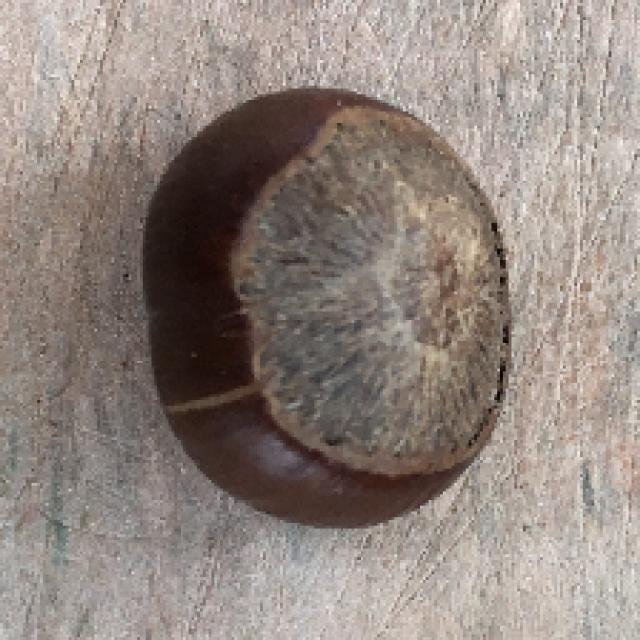DamagedHazelnut: (141, 84, 520, 533)
